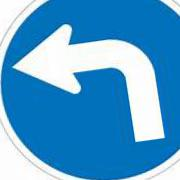left: (1, 1, 180, 180)
